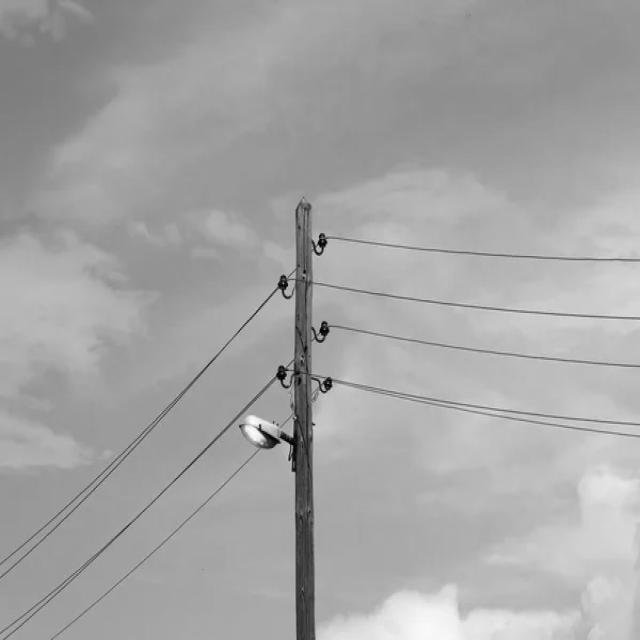Pole: (293, 197, 314, 640)
